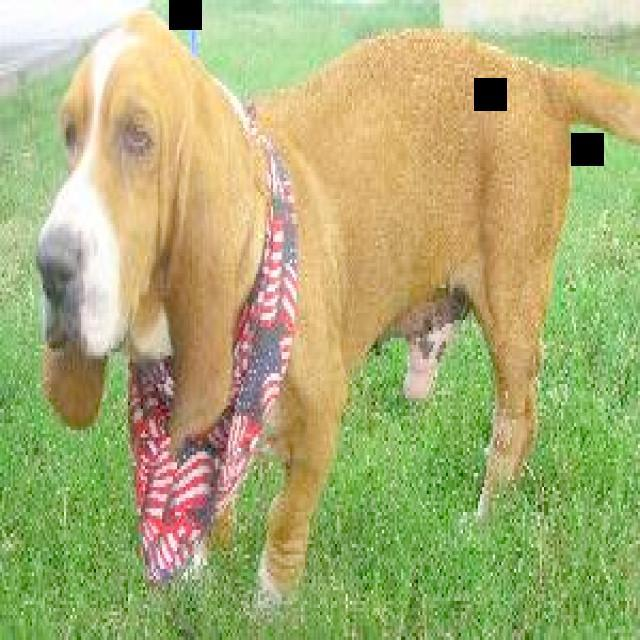adult_dog: (36, 10, 640, 617)
